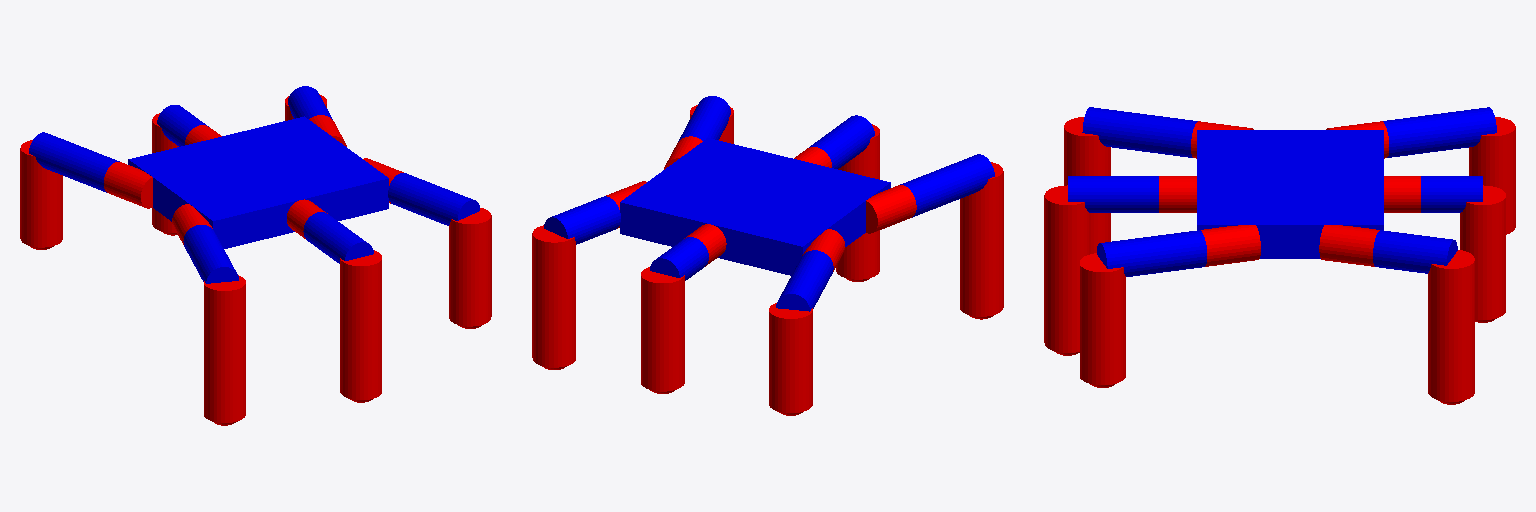
--- Render facts (derived) ---
The picture shows the robot from 3 angles, left to right: view 1: azimuth 30°, elevation 25°; view 2: azimuth 150°, elevation 25°; view 3: azimuth 270°, elevation 25°; orthographic projection.
Robot: pexod — 19 links, 18 joints (18 revolute); root link base_link; default pose: every joint at zero.
Links seen in each view (by area): view 1: base_link, leg_4_3, leg_5_3, leg_3_3, leg_0_3, leg_3_2, leg_0_2, leg_4_2, leg_5_2, leg_0_1, leg_1_2, leg_2_2 (+3 smaller); view 2: base_link, leg_2_3, leg_5_3, leg_1_3, leg_0_3, leg_5_2, leg_4_3, leg_2_2, leg_0_2, leg_4_2, leg_5_1, leg_1_2 (+3 smaller); view 3: base_link, leg_2_3, leg_4_3, leg_3_3, leg_1_3, leg_5_2, leg_0_2, leg_3_2, leg_4_2, leg_0_3, leg_5_3, leg_2_2 (+5 smaller).
Boxes of the visible links, x1=… form: base_link: x1=128, y1=116, x2=388, y2=248; leg_4_3: x1=340, y1=250, x2=381, y2=402; leg_5_3: x1=204, y1=275, x2=245, y2=425; leg_3_3: x1=449, y1=208, x2=491, y2=328; leg_0_3: x1=20, y1=140, x2=62, y2=249; leg_3_2: x1=388, y1=173, x2=479, y2=225; leg_0_2: x1=29, y1=132, x2=119, y2=192; leg_4_2: x1=303, y1=212, x2=373, y2=263; leg_5_2: x1=183, y1=225, x2=238, y2=283; leg_0_1: x1=104, y1=162, x2=152, y2=208; leg_1_2: x1=157, y1=105, x2=208, y2=146; leg_2_2: x1=288, y1=86, x2=332, y2=119; base_link: x1=620, y1=138, x2=890, y2=275; leg_2_3: x1=532, y1=225, x2=575, y2=369; leg_5_3: x1=960, y1=162, x2=1003, y2=319; leg_1_3: x1=641, y1=267, x2=684, y2=393; leg_0_3: x1=769, y1=303, x2=812, y2=415; leg_5_2: x1=900, y1=154, x2=994, y2=217; leg_4_3: x1=836, y1=124, x2=879, y2=281; leg_2_2: x1=544, y1=196, x2=620, y2=244; leg_0_2: x1=776, y1=250, x2=833, y2=311; leg_4_2: x1=809, y1=115, x2=874, y2=168; leg_5_1: x1=866, y1=185, x2=916, y2=233; leg_1_2: x1=650, y1=237, x2=708, y2=280; base_link: x1=1197, y1=130, x2=1383, y2=258; leg_2_3: x1=1428, y1=250, x2=1474, y2=404; leg_4_3: x1=1044, y1=185, x2=1090, y2=355; leg_3_3: x1=1080, y1=253, x2=1125, y2=387; leg_1_3: x1=1460, y1=185, x2=1505, y2=322; leg_5_2: x1=1082, y1=107, x2=1197, y2=157; leg_0_2: x1=1383, y1=107, x2=1496, y2=157; leg_3_2: x1=1097, y1=230, x2=1206, y2=276; leg_4_2: x1=1068, y1=176, x2=1158, y2=212; leg_0_3: x1=1469, y1=117, x2=1515, y2=234; leg_5_3: x1=1064, y1=117, x2=1110, y2=253; leg_2_2: x1=1373, y1=230, x2=1457, y2=273.
Bounding box of the posed robot: 0.3941 × 0.5037 × 0.2071 m (x, y, z).
Geometry: primitives only (box / cylinder / sphere), no mesh files.

robot.urdf — pexod:
<?xml version="1.0" ?>
<!-- =================================================================================== -->
<!-- |    This document was autogenerated by xacro from pexod.xacro                    | -->
<!-- |    EDITING THIS FILE BY HAND IS NOT RECOMMENDED                                 | -->
<!-- =================================================================================== -->
<robot name="pexod" xmlns:xacro="http://www.ros.org/wiki/xacro">
  <!-- <xacro:include filename="$(find pexod_description)/urdf/pexod_control.xacro" /> -->
  <!-- MATERIALS -->
  <material name="Blue">
    <color rgba="0 0 1 1"/>
  </material>
  <material name="Red">
    <color rgba="1 0 0 1"/>
  </material>
  <material name="Green">
    <color rgba="0 1 0 1"/>
  </material>
  <material name="Yellow">
    <color rgba="1 1 0 1"/>
  </material>
  <material name="LightGrey">
    <color rgba="0.6 0.6 0.6 1.0"/>
  </material>
  <!-- END OF MATERIALS -->
  <!-- XACRO MACROS FOR VISUALS AND COLLISIONS -->
  <!-- END OF XACRO MACROS -->
  <!-- TORSO -->
  <link name="base_link">
    <visual>
      <origin rpy="0 0 0" xyz="0 0 0"/>
      <geometry>
        <box size="0.24 0.2 0.04"/>
      </geometry>
      <material name="Blue"/>
    </visual>
    <collision>
      <origin rpy="0 0 0" xyz="0 0 0"/>
      <geometry>
        <box size="0.24 0.2 0.04"/>
      </geometry>
    </collision>
    <inertial>
      <!-- CENTER OF MASS -->
      <origin rpy="0 0 0" xyz="0 0 0"/>
      <mass value="1.031"/>
      <!-- box inertia: 1/12*m(y^2+z^2), ... -->
      <inertia ixx="0.00357413333333" ixy="0" ixz="0" iyy="0.00508626666667" iyz="0" izz="0.00838546666667"/>
    </inertial>
  </link>
  <!-- XACRO MACRO FOR LEGS LINKS/JOINTS -->
  <!-- END OF LEG LINKS/JOINTS -->
  <joint name="body_leg_2" type="revolute">
    <parent link="base_link"/>
    <child link="leg_2_1"/>
    <limit effort="30.0" lower="-1.57079632679" upper="1.57079632679" velocity="7.0"/>
    <origin rpy="0 0 -0.3" xyz="0.11 0.04 0"/>
    <!-- <xacro:if value="${index == 5 or index == 4 or index == 3}">
                <axis xyz="0 0 1"/>
            </xacro:if>
            <xacro:if value="${index == 2 or index == 1 or index == 0}"> -->
    <axis xyz="0 0 1"/>
    <!-- </xacro:if> -->
    <dynamics damping="0.0"/>
  </joint>
  <link name="leg_2_1">
    <visual>
      <origin rpy="1.57079632679 0 0" xyz="0.01 0.03 0"/>
      <geometry>
        <cylinder length="0.06" radius="0.02"/>
      </geometry>
      <material name="Red"/>
    </visual>
    <collision>
      <origin rpy="1.57079632679 0 0" xyz="0.01 0.03 0"/>
      <geometry>
        <box size="0.02 0.02 0.06"/>
      </geometry>
    </collision>
    <inertial>
      <!-- CENTER OF MASS -->
      <origin rpy="1.57079632679 0 0" xyz="0.01 0.03 0"/>
      <mass value="0.02"/>
      <!-- box inertia: 1/12*m(y^2+z^2), ... -->
      <inertia ixx="6.66666666667e-06" ixy="0" ixz="0" iyy="6.66666666667e-06" iyz="0" izz="1.33333333333e-06"/>
    </inertial>
  </link>
  <joint name="leg_2_1_2" type="revolute">
    <parent link="leg_2_1"/>
    <child link="leg_2_2"/>
    <limit effort="30.0" lower="-0.78539816339" upper="0.78539816339" velocity="7.0"/>
    <origin rpy="0 0 0" xyz="0 0.06 0"/>
    <axis xyz="1 0 0"/>
    <dynamics damping="0.0"/>
  </joint>
  <link name="leg_2_2">
    <visual>
      <origin rpy="1.57079632679 0 0" xyz="0.01 0.0413240651632 0"/>
      <geometry>
        <cylinder length="0.0826481303264" radius="0.02"/>
      </geometry>
      <material name="Blue"/>
    </visual>
    <collision>
      <origin rpy="1.57079632679 0 0" xyz="0.01 0.0413240651632 0"/>
      <geometry>
        <box size="0.02 0.02 0.0826481303264"/>
      </geometry>
    </collision>
    <inertial>
      <!-- CENTER OF MASS -->
      <origin rpy="1.57079632679 0 0" xyz="0.01 0.0413240651632 0"/>
      <mass value="0.184"/>
      <!-- box inertia: 1/12*m(y^2+z^2), ... -->
      <inertia ixx="0.000110870939512" ixy="0" ixz="0" iyy="0.000110870939512" iyz="0" izz="1.22666666667e-05"/>
    </inertial>
  </link>
  <joint name="leg_2_2_3" type="revolute">
    <parent link="leg_2_2"/>
    <child link="leg_2_3"/>
    <limit effort="30.0" lower="-0.78539816339" upper="0.78539816339" velocity="7.0"/>
    <origin rpy="-1.57079632679 0 0" xyz="0 0.0826481303264 0"/>
    <axis xyz="-1 0 0"/>
    <dynamics damping="0.0"/>
  </joint>
  <link name="leg_2_3">
    <visual>
      <origin rpy="1.57079632679 0 0" xyz="0.0125 0.078467754894 0"/>
      <geometry>
        <cylinder length="0.156935509788" radius="0.025"/>
      </geometry>
      <material name="Red"/>
    </visual>
    <visual>
      <origin rpy="1.57079632679 0 0" xyz="0.0125 0.144435509788 0"/>
      <geometry>
        <sphere radius="0.025"/>
      </geometry>
      <material name="Red"/>
    </visual>
    <collision>
      <origin rpy="1.57079632679 0 0" xyz="0.0125 0.078467754894 0"/>
      <geometry>
        <box size="0.025 0.025 0.156935509788"/>
      </geometry>
    </collision>
    <collision>
      <origin rpy="1.57079632679 0 0" xyz="0.0125 0.144435509788 0"/>
      <geometry>
        <sphere radius="0.025"/>
      </geometry>
      <material name="Red"/>
    </collision>
    <inertial>
      <!-- CENTER OF MASS -->
      <origin rpy="1.57079632679 0 0" xyz="0.0125 0.078467754894 0"/>
      <mass value="0.04"/>
      <!-- box inertia: 1/12*m(y^2+z^2), ... -->
      <inertia ixx="8.41791807747e-05" ixy="0" ixz="0" iyy="8.41791807747e-05" iyz="0" izz="4.16666666667e-06"/>
    </inertial>
  </link>
  <joint name="body_leg_3" type="revolute">
    <parent link="base_link"/>
    <child link="leg_3_1"/>
    <limit effort="30.0" lower="-1.57079632679" upper="1.57079632679" velocity="7.0"/>
    <origin rpy="0 0 0.3" xyz="0.11 -0.04 0"/>
    <!-- <xacro:if value="${index == 5 or index == 4 or index == 3}">
                <axis xyz="0 0 1"/>
            </xacro:if>
            <xacro:if value="${index == 2 or index == 1 or index == 0}"> -->
    <axis xyz="0 0 1"/>
    <!-- </xacro:if> -->
    <dynamics damping="0.0"/>
  </joint>
  <link name="leg_3_1">
    <visual>
      <origin rpy="1.57079632679 0 0" xyz="0.01 -0.03 0"/>
      <geometry>
        <cylinder length="0.06" radius="0.02"/>
      </geometry>
      <material name="Red"/>
    </visual>
    <collision>
      <origin rpy="1.57079632679 0 0" xyz="0.01 -0.03 0"/>
      <geometry>
        <box size="0.02 0.02 0.06"/>
      </geometry>
    </collision>
    <inertial>
      <!-- CENTER OF MASS -->
      <origin rpy="1.57079632679 0 0" xyz="0.01 -0.03 0"/>
      <mass value="0.02"/>
      <!-- box inertia: 1/12*m(y^2+z^2), ... -->
      <inertia ixx="6.66666666667e-06" ixy="0" ixz="0" iyy="6.66666666667e-06" iyz="0" izz="1.33333333333e-06"/>
    </inertial>
  </link>
  <joint name="leg_3_1_2" type="revolute">
    <parent link="leg_3_1"/>
    <child link="leg_3_2"/>
    <limit effort="30.0" lower="-0.78539816339" upper="0.78539816339" velocity="7.0"/>
    <origin rpy="0 0 0" xyz="0 -0.06 0"/>
    <axis xyz="-1 0 0"/>
    <dynamics damping="0.0"/>
  </joint>
  <link name="leg_3_2">
    <visual>
      <origin rpy="1.57079632679 0 0" xyz="0.01 -0.0558855560765 0"/>
      <geometry>
        <cylinder length="0.111771112153" radius="0.02"/>
      </geometry>
      <material name="Blue"/>
    </visual>
    <collision>
      <origin rpy="1.57079632679 0 0" xyz="0.01 -0.0558855560765 0"/>
      <geometry>
        <box size="0.02 0.02 0.111771112153"/>
      </geometry>
    </collision>
    <inertial>
      <!-- CENTER OF MASS -->
      <origin rpy="1.57079632679 0 0" xyz="0.01 -0.0558855560765 0"/>
      <mass value="0.184"/>
      <!-- box inertia: 1/12*m(y^2+z^2), ... -->
      <inertia ixx="0.000197689316516" ixy="0" ixz="0" iyy="0.000197689316516" iyz="0" izz="1.22666666667e-05"/>
    </inertial>
  </link>
  <joint name="leg_3_2_3" type="revolute">
    <parent link="leg_3_2"/>
    <child link="leg_3_3"/>
    <limit effort="30.0" lower="-0.78539816339" upper="0.78539816339" velocity="7.0"/>
    <origin rpy="1.57079632679 0 0" xyz="0 -0.111771112153 0"/>
    <axis xyz="1 0 0"/>
    <dynamics damping="0.0"/>
  </joint>
  <link name="leg_3_3">
    <visual>
      <origin rpy="1.57079632679 0 0" xyz="0.0125 -0.0666364582245 0"/>
      <geometry>
        <cylinder length="0.133272916449" radius="0.025"/>
      </geometry>
      <material name="Red"/>
    </visual>
    <visual>
      <origin rpy="1.57079632679 0 0" xyz="0.0125 -0.120772916449 0"/>
      <geometry>
        <sphere radius="0.025"/>
      </geometry>
      <material name="Red"/>
    </visual>
    <collision>
      <origin rpy="1.57079632679 0 0" xyz="0.0125 -0.0666364582245 0"/>
      <geometry>
        <box size="0.025 0.025 0.133272916449"/>
      </geometry>
    </collision>
    <collision>
      <origin rpy="1.57079632679 0 0" xyz="0.0125 -0.120772916449 0"/>
      <geometry>
        <sphere radius="0.025"/>
      </geometry>
      <material name="Red"/>
    </collision>
    <inertial>
      <!-- CENTER OF MASS -->
      <origin rpy="1.57079632679 0 0" xyz="0.0125 -0.0666364582245 0"/>
      <mass value="0.04"/>
      <!-- box inertia: 1/12*m(y^2+z^2), ... -->
      <inertia ixx="6.12889008627e-05" ixy="0" ixz="0" iyy="6.12889008627e-05" iyz="0" izz="4.16666666667e-06"/>
    </inertial>
  </link>
  <joint name="body_leg_0" type="revolute">
    <parent link="base_link"/>
    <child link="leg_0_1"/>
    <limit effort="30.0" lower="-1.57079632679" upper="1.57079632679" velocity="7.0"/>
    <origin rpy="0 0 0.3" xyz="-0.13 0.04 0"/>
    <!-- <xacro:if value="${index == 5 or index == 4 or index == 3}">
                <axis xyz="0 0 1"/>
            </xacro:if>
            <xacro:if value="${index == 2 or index == 1 or index == 0}"> -->
    <axis xyz="0 0 1"/>
    <!-- </xacro:if> -->
    <dynamics damping="0.0"/>
  </joint>
  <link name="leg_0_1">
    <visual>
      <origin rpy="1.57079632679 0 0" xyz="0.01 0.03 0"/>
      <geometry>
        <cylinder length="0.06" radius="0.02"/>
      </geometry>
      <material name="Red"/>
    </visual>
    <collision>
      <origin rpy="1.57079632679 0 0" xyz="0.01 0.03 0"/>
      <geometry>
        <box size="0.02 0.02 0.06"/>
      </geometry>
    </collision>
    <inertial>
      <!-- CENTER OF MASS -->
      <origin rpy="1.57079632679 0 0" xyz="0.01 0.03 0"/>
      <mass value="0.02"/>
      <!-- box inertia: 1/12*m(y^2+z^2), ... -->
      <inertia ixx="6.66666666667e-06" ixy="0" ixz="0" iyy="6.66666666667e-06" iyz="0" izz="1.33333333333e-06"/>
    </inertial>
  </link>
  <joint name="leg_0_1_2" type="revolute">
    <parent link="leg_0_1"/>
    <child link="leg_0_2"/>
    <limit effort="30.0" lower="-0.78539816339" upper="0.78539816339" velocity="7.0"/>
    <origin rpy="0 0 0" xyz="0 0.06 0"/>
    <axis xyz="1 0 0"/>
    <dynamics damping="0.0"/>
  </joint>
  <link name="leg_0_2">
    <visual>
      <origin rpy="1.57079632679 0 0" xyz="0.01 0.060223500171 0"/>
      <geometry>
        <cylinder length="0.120447000342" radius="0.02"/>
      </geometry>
      <material name="Blue"/>
    </visual>
    <collision>
      <origin rpy="1.57079632679 0 0" xyz="0.01 0.060223500171 0"/>
      <geometry>
        <box size="0.02 0.02 0.120447000342"/>
      </geometry>
    </collision>
    <inertial>
      <!-- CENTER OF MASS -->
      <origin rpy="1.57079632679 0 0" xyz="0.01 0.060223500171 0"/>
      <mass value="0.184"/>
      <!-- box inertia: 1/12*m(y^2+z^2), ... -->
      <inertia ixx="0.000228581358335" ixy="0" ixz="0" iyy="0.000228581358335" iyz="0" izz="1.22666666667e-05"/>
    </inertial>
  </link>
  <joint name="leg_0_2_3" type="revolute">
    <parent link="leg_0_2"/>
    <child link="leg_0_3"/>
    <limit effort="30.0" lower="-0.78539816339" upper="0.78539816339" velocity="7.0"/>
    <origin rpy="-1.57079632679 0 0" xyz="0 0.120447000342 0"/>
    <axis xyz="-1 0 0"/>
    <dynamics damping="0.0"/>
  </joint>
  <link name="leg_0_3">
    <visual>
      <origin rpy="1.57079632679 0 0" xyz="0.0125 0.059182472127 0"/>
      <geometry>
        <cylinder length="0.118364944254" radius="0.025"/>
      </geometry>
      <material name="Red"/>
    </visual>
    <visual>
      <origin rpy="1.57079632679 0 0" xyz="0.0125 0.105864944254 0"/>
      <geometry>
        <sphere radius="0.025"/>
      </geometry>
      <material name="Red"/>
    </visual>
    <collision>
      <origin rpy="1.57079632679 0 0" xyz="0.0125 0.059182472127 0"/>
      <geometry>
        <box size="0.025 0.025 0.118364944254"/>
      </geometry>
    </collision>
    <collision>
      <origin rpy="1.57079632679 0 0" xyz="0.0125 0.105864944254 0"/>
      <geometry>
        <sphere radius="0.025"/>
      </geometry>
      <material name="Red"/>
    </collision>
    <inertial>
      <!-- CENTER OF MASS -->
      <origin rpy="1.57079632679 0 0" xyz="0.0125 0.059182472127 0"/>
      <mass value="0.04"/>
      <!-- box inertia: 1/12*m(y^2+z^2), ... -->
      <inertia ixx="4.87842000942e-05" ixy="0" ixz="0" iyy="4.87842000942e-05" iyz="0" izz="4.16666666667e-06"/>
    </inertial>
  </link>
  <joint name="body_leg_5" type="revolute">
    <parent link="base_link"/>
    <child link="leg_5_1"/>
    <limit effort="30.0" lower="-1.57079632679" upper="1.57079632679" velocity="7.0"/>
    <origin rpy="0 0 -0.3" xyz="-0.13 -0.04 0"/>
    <!-- <xacro:if value="${index == 5 or index == 4 or index == 3}">
                <axis xyz="0 0 1"/>
            </xacro:if>
            <xacro:if value="${index == 2 or index == 1 or index == 0}"> -->
    <axis xyz="0 0 1"/>
    <!-- </xacro:if> -->
    <dynamics damping="0.0"/>
  </joint>
  <link name="leg_5_1">
    <visual>
      <origin rpy="1.57079632679 0 0" xyz="0.01 -0.03 0"/>
      <geometry>
        <cylinder length="0.06" radius="0.02"/>
      </geometry>
      <material name="Red"/>
    </visual>
    <collision>
      <origin rpy="1.57079632679 0 0" xyz="0.01 -0.03 0"/>
      <geometry>
        <box size="0.02 0.02 0.06"/>
      </geometry>
    </collision>
    <inertial>
      <!-- CENTER OF MASS -->
      <origin rpy="1.57079632679 0 0" xyz="0.01 -0.03 0"/>
      <mass value="0.02"/>
      <!-- box inertia: 1/12*m(y^2+z^2), ... -->
      <inertia ixx="6.66666666667e-06" ixy="0" ixz="0" iyy="6.66666666667e-06" iyz="0" izz="1.33333333333e-06"/>
    </inertial>
  </link>
  <joint name="leg_5_1_2" type="revolute">
    <parent link="leg_5_1"/>
    <child link="leg_5_2"/>
    <limit effort="30.0" lower="-0.78539816339" upper="0.78539816339" velocity="7.0"/>
    <origin rpy="0 0 0" xyz="0 -0.06 0"/>
    <axis xyz="-1 0 0"/>
    <dynamics damping="0.0"/>
  </joint>
  <link name="leg_5_2">
    <visual>
      <origin rpy="1.57079632679 0 0" xyz="0.01 -0.0606755400635 0"/>
      <geometry>
        <cylinder length="0.121351080127" radius="0.02"/>
      </geometry>
      <material name="Blue"/>
    </visual>
    <collision>
      <origin rpy="1.57079632679 0 0" xyz="0.01 -0.0606755400635 0"/>
      <geometry>
        <box size="0.02 0.02 0.121351080127"/>
      </geometry>
    </collision>
    <inertial>
      <!-- CENTER OF MASS -->
      <origin rpy="1.57079632679 0 0" xyz="0.01 -0.0606755400635 0"/>
      <mass value="0.184"/>
      <!-- box inertia: 1/12*m(y^2+z^2), ... -->
      <inertia ixx="0.000231933297936" ixy="0" ixz="0" iyy="0.000231933297936" iyz="0" izz="1.22666666667e-05"/>
    </inertial>
  </link>
  <joint name="leg_5_2_3" type="revolute">
    <parent link="leg_5_2"/>
    <child link="leg_5_3"/>
    <limit effort="30.0" lower="-0.78539816339" upper="0.78539816339" velocity="7.0"/>
    <origin rpy="1.57079632679 0 0" xyz="0 -0.121351080127 0"/>
    <axis xyz="1 0 0"/>
    <dynamics damping="0.0"/>
  </joint>
  <link name="leg_5_3">
    <visual>
      <origin rpy="1.57079632679 0 0" xyz="0.0125 -0.086073330113 0"/>
      <geometry>
        <cylinder length="0.172146660226" radius="0.025"/>
      </geometry>
      <material name="Red"/>
    </visual>
    <visual>
      <origin rpy="1.57079632679 0 0" xyz="0.0125 -0.159646660226 0"/>
      <geometry>
        <sphere radius="0.025"/>
      </geometry>
      <material name="Red"/>
    </visual>
    <collision>
      <origin rpy="1.57079632679 0 0" xyz="0.0125 -0.086073330113 0"/>
      <geometry>
        <box size="0.025 0.025 0.172146660226"/>
      </geometry>
    </collision>
    <collision>
      <origin rpy="1.57079632679 0 0" xyz="0.0125 -0.159646660226 0"/>
      <geometry>
        <sphere radius="0.025"/>
      </geometry>
      <material name="Red"/>
    </collision>
    <inertial>
      <!-- CENTER OF MASS -->
      <origin rpy="1.57079632679 0 0" xyz="0.0125 -0.086073330113 0"/>
      <mass value="0.04"/>
      <!-- box inertia: 1/12*m(y^2+z^2), ... -->
      <inertia ixx="0.000100864908757" ixy="0" ixz="0" iyy="0.000100864908757" iyz="0" izz="4.16666666667e-06"/>
    </inertial>
  </link>
  <joint name="body_leg_1" type="revolute">
    <parent link="base_link"/>
    <child link="leg_1_1"/>
    <limit effort="30.0" lower="-1.57079632679" upper="1.57079632679" velocity="7.0"/>
    <origin rpy="0 0 0" xyz="-0.01 0.08 0"/>
    <!-- <xacro:if value="${index == 5 or index == 4 or index == 3}">
                <axis xyz="0 0 1"/>
            </xacro:if>
            <xacro:if value="${index == 2 or index == 1 or index == 0}"> -->
    <axis xyz="0 0 1"/>
    <!-- </xacro:if> -->
    <dynamics damping="0.0"/>
  </joint>
  <link name="leg_1_1">
    <visual>
      <origin rpy="1.57079632679 0 0" xyz="0.01 0.03 0"/>
      <geometry>
        <cylinder length="0.06" radius="0.02"/>
      </geometry>
      <material name="Red"/>
    </visual>
    <collision>
      <origin rpy="1.57079632679 0 0" xyz="0.01 0.03 0"/>
      <geometry>
        <box size="0.02 0.02 0.06"/>
      </geometry>
    </collision>
    <inertial>
      <!-- CENTER OF MASS -->
      <origin rpy="1.57079632679 0 0" xyz="0.01 0.03 0"/>
      <mass value="0.02"/>
      <!-- box inertia: 1/12*m(y^2+z^2), ... -->
      <inertia ixx="6.66666666667e-06" ixy="0" ixz="0" iyy="6.66666666667e-06" iyz="0" izz="1.33333333333e-06"/>
    </inertial>
  </link>
  <joint name="leg_1_1_2" type="revolute">
    <parent link="leg_1_1"/>
    <child link="leg_1_2"/>
    <limit effort="30.0" lower="-0.78539816339" upper="0.78539816339" velocity="7.0"/>
    <origin rpy="0 0 0" xyz="0 0.06 0"/>
    <axis xyz="1 0 0"/>
    <dynamics damping="0.0"/>
  </joint>
  <link name="leg_1_2">
    <visual>
      <origin rpy="1.57079632679 0 0" xyz="0.01 0.0330450840524 0"/>
      <geometry>
        <cylinder length="0.0660901681048" radius="0.02"/>
      </geometry>
      <material name="Blue"/>
    </visual>
    <collision>
      <origin rpy="1.57079632679 0 0" xyz="0.01 0.0330450840524 0"/>
      <geometry>
        <box size="0.02 0.02 0.0660901681048"/>
      </geometry>
    </collision>
    <inertial>
      <!-- CENTER OF MASS -->
      <origin rpy="1.57079632679 0 0" xyz="0.01 0.0330450840524 0"/>
      <mass value="0.184"/>
      <!-- box inertia: 1/12*m(y^2+z^2), ... -->
      <inertia ixx="7.31079582419e-05" ixy="0" ixz="0" iyy="7.31079582419e-05" iyz="0" izz="1.22666666667e-05"/>
    </inertial>
  </link>
  <joint name="leg_1_2_3" type="revolute">
    <parent link="leg_1_2"/>
    <child link="leg_1_3"/>
    <limit effort="30.0" lower="-0.78539816339" upper="0.78539816339" velocity="7.0"/>
    <origin rpy="-1.57079632679 0 0" xyz="0 0.0660901681048 0"/>
    <axis xyz="-1 0 0"/>
    <dynamics damping="0.0"/>
  </joint>
  <link name="leg_1_3">
    <visual>
      <origin rpy="1.57079632679 0 0" xyz="0.0125 0.0678823376155 0"/>
      <geometry>
        <cylinder length="0.135764675231" radius="0.025"/>
      </geometry>
      <material name="Red"/>
    </visual>
    <visual>
      <origin rpy="1.57079632679 0 0" xyz="0.0125 0.123264675231 0"/>
      <geometry>
        <sphere radius="0.025"/>
      </geometry>
      <material name="Red"/>
    </visual>
    <collision>
      <origin rpy="1.57079632679 0 0" xyz="0.0125 0.0678823376155 0"/>
      <geometry>
        <box size="0.025 0.025 0.135764675231"/>
      </geometry>
    </collision>
    <collision>
      <origin rpy="1.57079632679 0 0" xyz="0.0125 0.123264675231 0"/>
      <geometry>
        <sphere radius="0.025"/>
      </geometry>
      <material name="Red"/>
    </collision>
    <inertial>
      <!-- CENTER OF MASS -->
      <origin rpy="1.57079632679 0 0" xyz="0.0125 0.0678823376155 0"/>
      <mass value="0.04"/>
      <!-- box inertia: 1/12*m(y^2+z^2), ... -->
      <inertia ixx="6.35234901353e-05" ixy="0" ixz="0" iyy="6.35234901353e-05" iyz="0" izz="4.16666666667e-06"/>
    </inertial>
  </link>
  <joint name="body_leg_4" type="revolute">
    <parent link="base_link"/>
    <child link="leg_4_1"/>
    <limit effort="30.0" lower="-1.57079632679" upper="1.57079632679" velocity="7.0"/>
    <origin rpy="0 0 0" xyz="-0.01 -0.08 0"/>
    <!-- <xacro:if value="${index == 5 or index == 4 or index == 3}">
                <axis xyz="0 0 1"/>
            </xacro:if>
            <xacro:if value="${index == 2 or index == 1 or index == 0}"> -->
    <axis xyz="0 0 1"/>
    <!-- </xacro:if> -->
    <dynamics damping="0.0"/>
  </joint>
  <link name="leg_4_1">
    <visual>
      <origin rpy="1.57079632679 0 0" xyz="0.01 -0.03 0"/>
      <geometry>
        <cylinder length="0.06" radius="0.02"/>
      </geometry>
      <material name="Red"/>
    </visual>
    <collision>
      <origin rpy="1.57079632679 0 0" xyz="0.01 -0.03 0"/>
      <geometry>
        <box size="0.02 0.02 0.06"/>
      </geometry>
    </collision>
    <inertial>
      <!-- CENTER OF MASS -->
      <origin rpy="1.57079632679 0 0" xyz="0.01 -0.03 0"/>
      <mass value="0.02"/>
      <!-- box inertia: 1/12*m(y^2+z^2), ... -->
      <inertia ixx="6.66666666667e-06" ixy="0" ixz="0" iyy="6.66666666667e-06" iyz="0" izz="1.33333333333e-06"/>
    </inertial>
  </link>
  <joint name="leg_4_1_2" type="revolute">
    <parent link="leg_4_1"/>
    <child link="leg_4_2"/>
    <limit effort="30.0" lower="-0.78539816339" upper="0.78539816339" velocity="7.0"/>
    <origin rpy="0 0 0" xyz="0 -0.06 0"/>
    <axis xyz="-1 0 0"/>
    <dynamics damping="0.0"/>
  </joint>
  <link name="leg_4_2">
    <visual>
      <origin rpy="1.57079632679 0 0" xyz="0.01 -0.0488744429473 0"/>
      <geometry>
        <cylinder length="0.0977488858946" radius="0.02"/>
      </geometry>
      <material name="Blue"/>
    </visual>
    <collision>
      <origin rpy="1.57079632679 0 0" xyz="0.01 -0.0488744429473 0"/>
      <geometry>
        <box size="0.02 0.02 0.0977488858946"/>
      </geometry>
    </collision>
    <inertial>
      <!-- CENTER OF MASS -->
      <origin rpy="1.57079632679 0 0" xyz="0.01 -0.0488744429473 0"/>
      <mass value="0.184"/>
      <!-- box inertia: 1/12*m(y^2+z^2), ... -->
      <inertia ixx="0.000152640951969" ixy="0" ixz="0" iyy="0.000152640951969" iyz="0" izz="1.22666666667e-05"/>
    </inertial>
  </link>
  <joint name="leg_4_2_3" type="revolute">
    <parent link="leg_4_2"/>
    <child link="leg_4_3"/>
    <limit effort="30.0" lower="-0.78539816339" upper="0.78539816339" velocity="7.0"/>
    <origin rpy="1.57079632679 0 0" xyz="0 -0.0977488858946 0"/>
    <axis xyz="1 0 0"/>
    <dynamics damping="0.0"/>
  </joint>
  <link name="leg_4_3">
    <visual>
      <origin rpy="1.57079632679 0 0" xyz="0.0125 -0.0872773744455 0"/>
      <geometry>
        <cylinder length="0.174554748891" radius="0.025"/>
      </geometry>
      <material name="Red"/>
    </visual>
    <visual>
      <origin rpy="1.57079632679 0 0" xyz="0.0125 -0.162054748891 0"/>
      <geometry>
        <sphere radius="0.025"/>
      </geometry>
      <material name="Red"/>
    </visual>
    <collision>
      <origin rpy="1.57079632679 0 0" xyz="0.0125 -0.0872773744455 0"/>
      <geometry>
        <box size="0.025 0.025 0.174554748891"/>
      </geometry>
    </collision>
    <collision>
      <origin rpy="1.57079632679 0 0" xyz="0.0125 -0.162054748891 0"/>
      <geometry>
        <sphere radius="0.025"/>
      </geometry>
      <material name="Red"/>
    </collision>
    <inertial>
      <!-- CENTER OF MASS -->
      <origin rpy="1.57079632679 0 0" xyz="0.0125 -0.0872773744455 0"/>
      <mass value="0.04"/>
      <!-- box inertia: 1/12*m(y^2+z^2), ... -->
      <inertia ixx="0.000103647867868" ixy="0" ixz="0" iyy="0.000103647867868" iyz="0" izz="4.16666666667e-06"/>
    </inertial>
  </link>
  <!-- END OF LEG LINKS/JOINTS -->
</robot>
